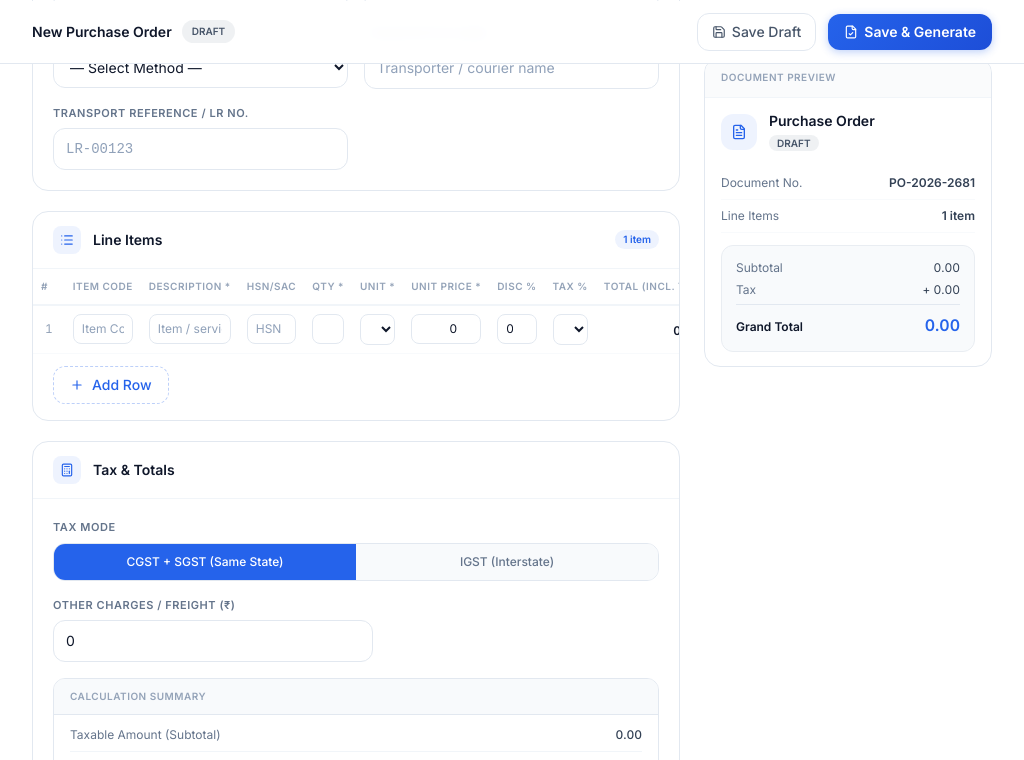
Scenario: PurchaseOrderPage › adds a new line item row
(page scrolled)
Expected: the text "1 item" below "Transporter Name" is shown, left=615, top=230, right=659, bottom=249
What coordinates should you click on to do the following:
click the button "Add Row"
I would click on:
 (111, 384)
Its box is left=53, top=366, right=169, bottom=404.
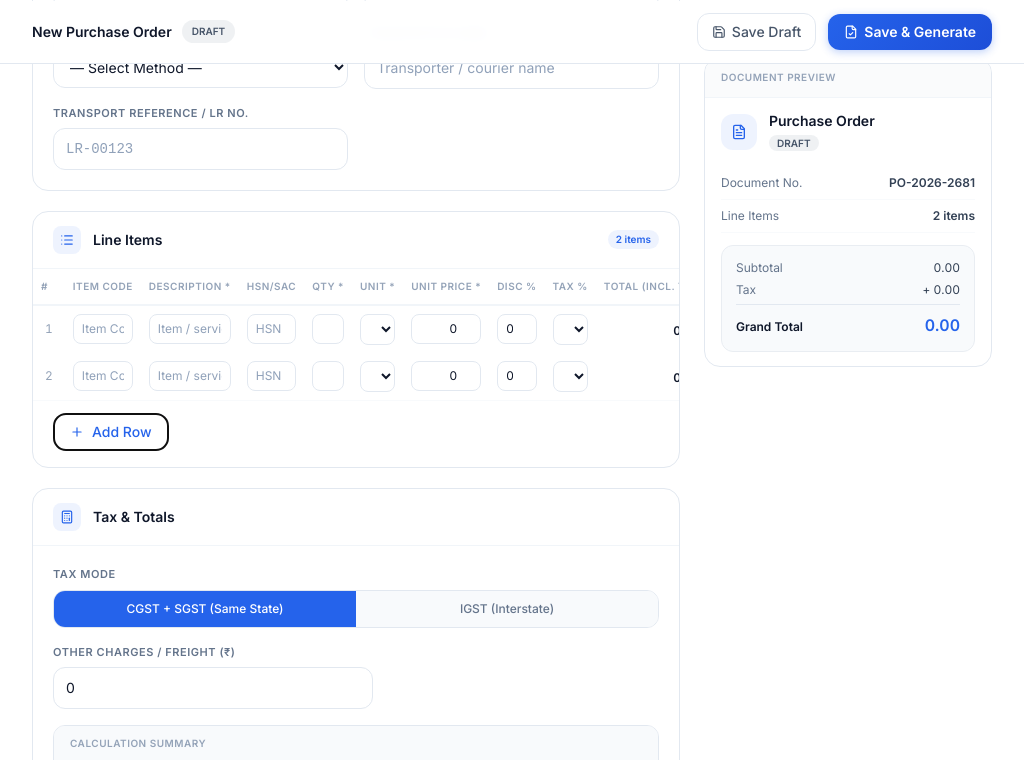
Result: the text "2 items" below "Transporter Name" is shown at left=608, top=230, right=659, bottom=249
Result: the text "1 item" is gone
